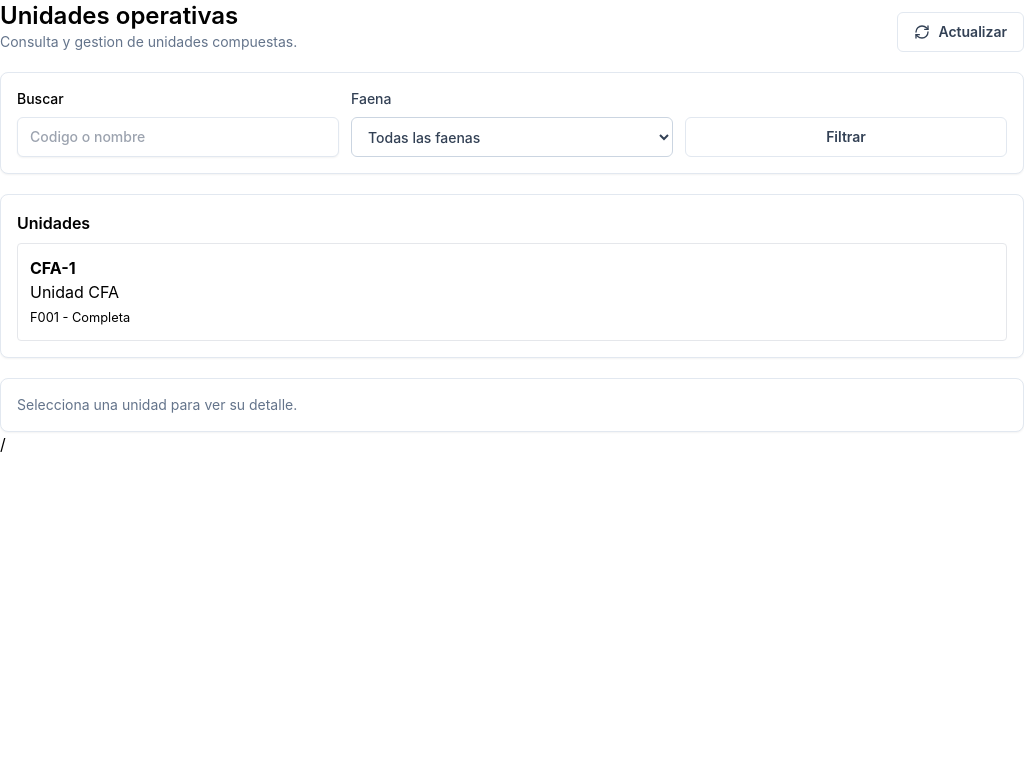
Test: OperationalUnitsPage shared actions › keeps the shared editor open with its values when the mutation fails
Click the button "CFA-1 Unidad CFA F001 - Completa" at (53, 268), box left=17, top=243, right=1007, bottom=341
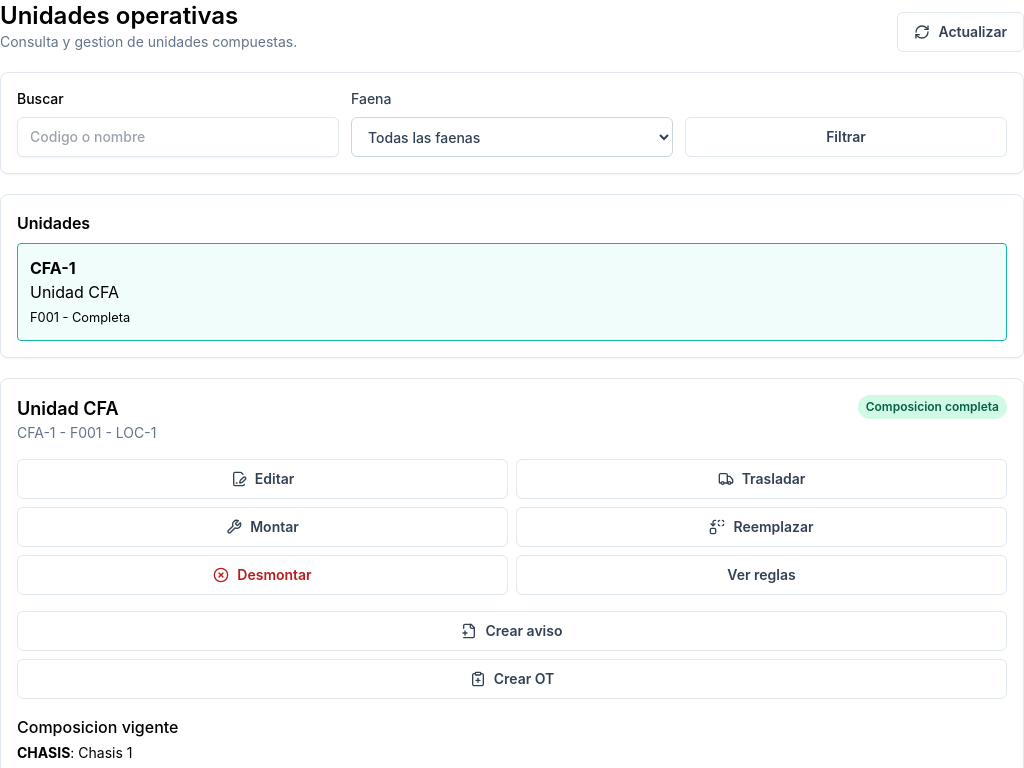
Expected: the button "Editar" is shown
Click the button "Editar" at (262, 479), box left=17, top=459, right=508, bottom=499
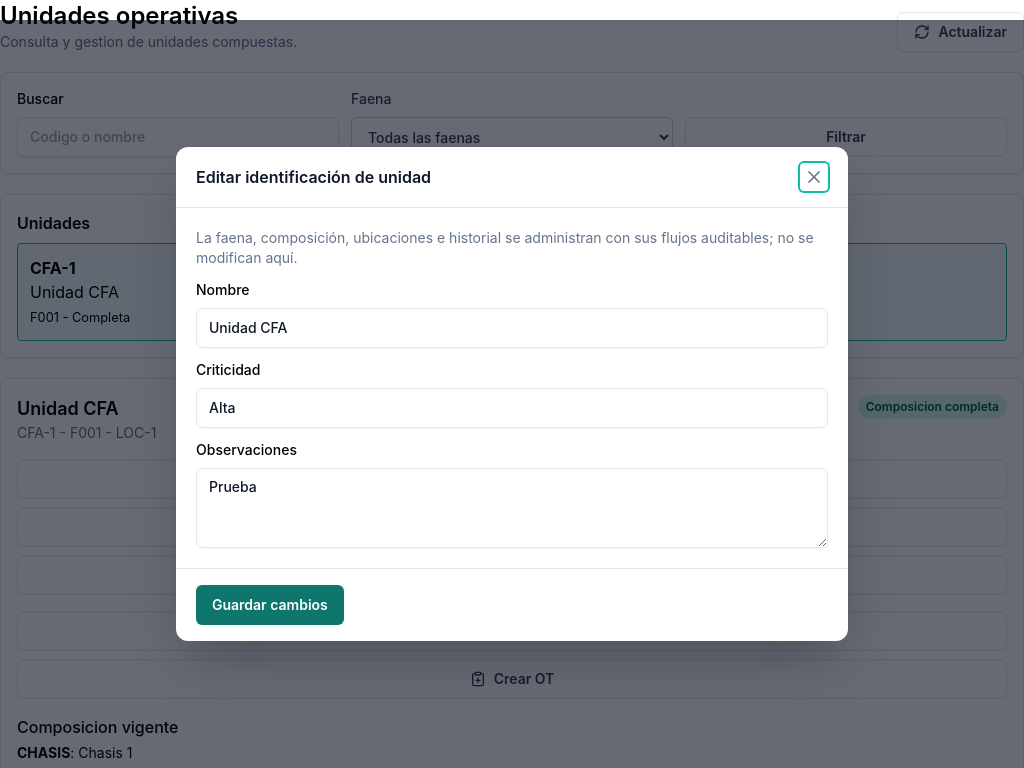
Replace the text in the field labelled "Nombre" with "Unidad editada" at (512, 328), box left=196, top=308, right=828, bottom=348
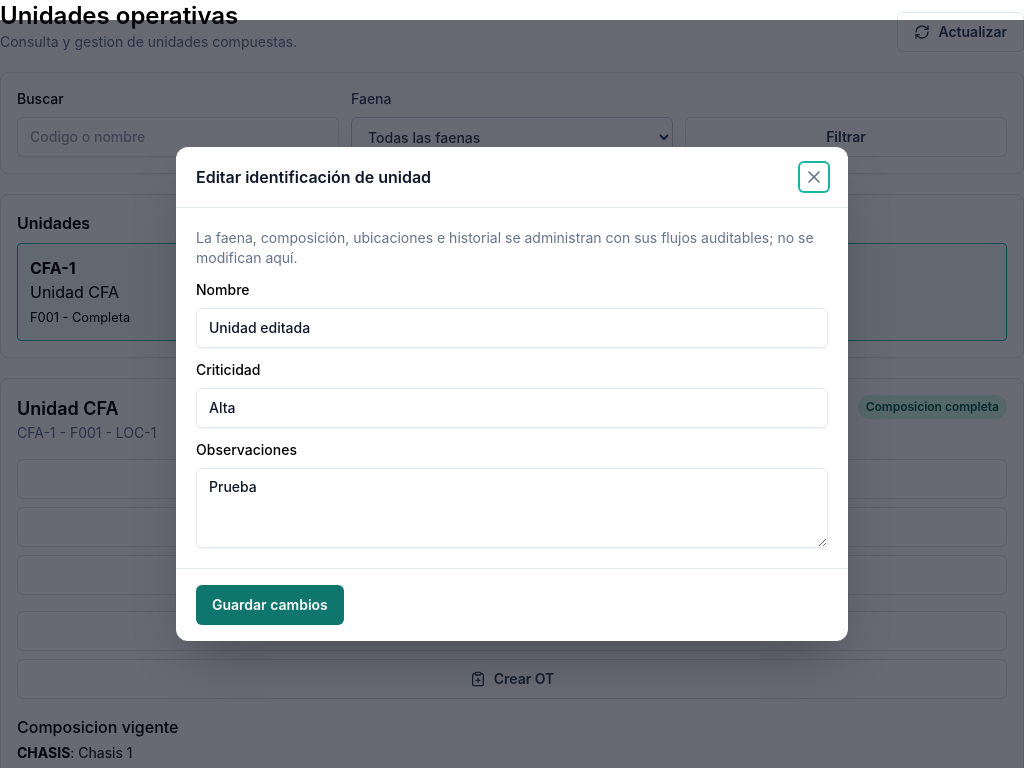
Click the button "Guardar cambios" at (270, 605), box left=196, top=585, right=344, bottom=625
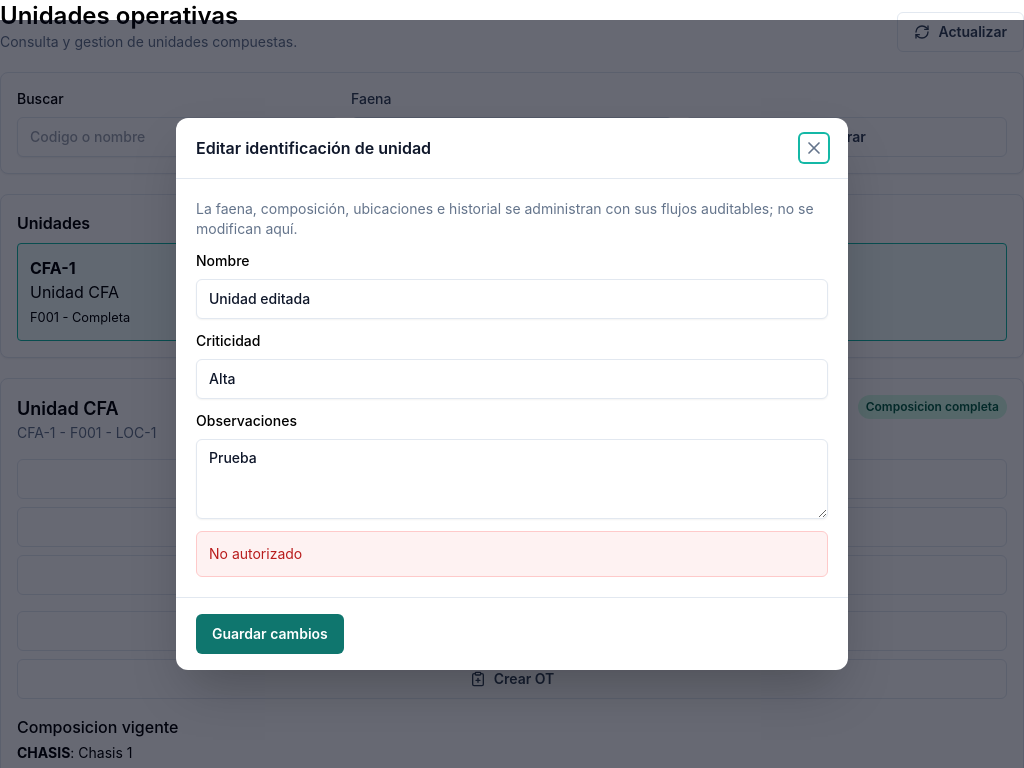
Expected: the dialog is shown, left=176, top=118, right=848, bottom=670
Expected: the text "No autorizado" is shown, left=196, top=531, right=828, bottom=577
